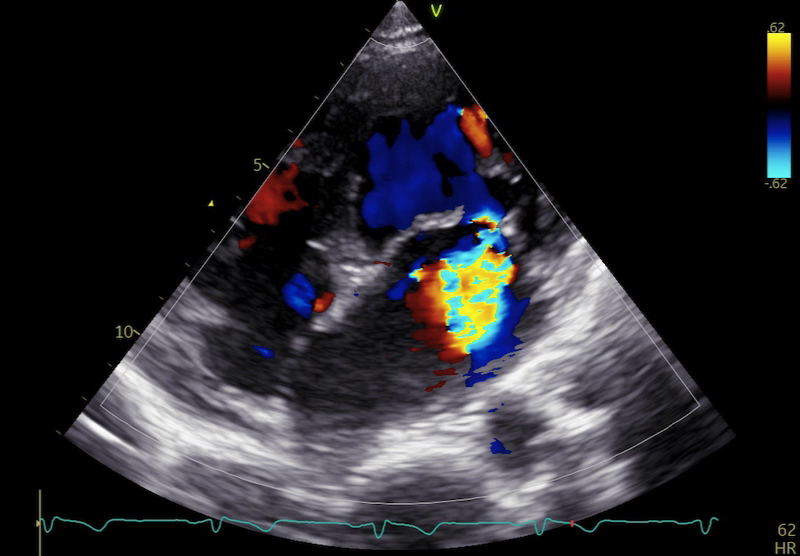MR: (385, 204, 516, 292)
